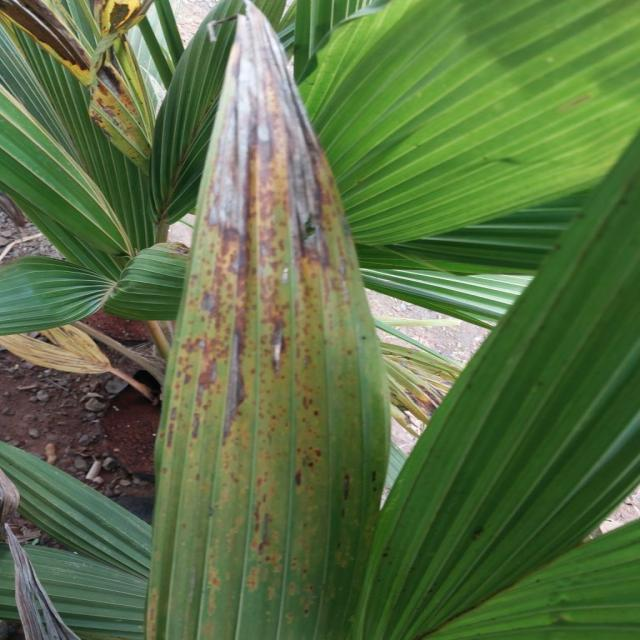gray leaf spot: (143, 0, 391, 640)
